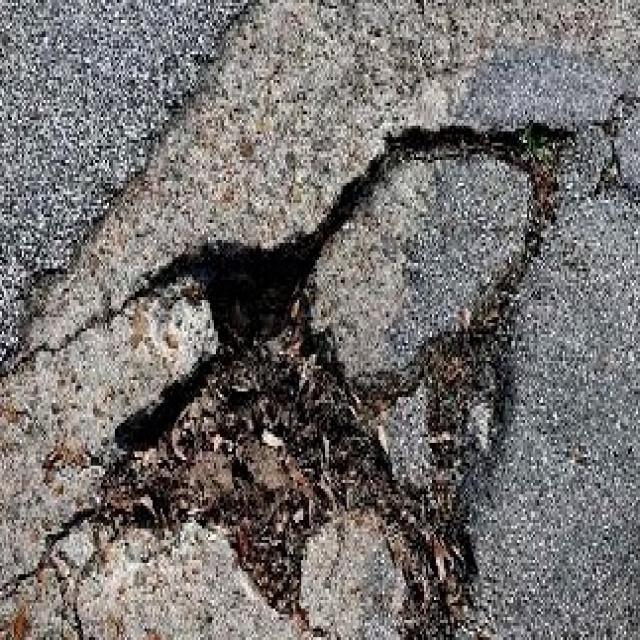road-pothole: (86, 110, 588, 637)
